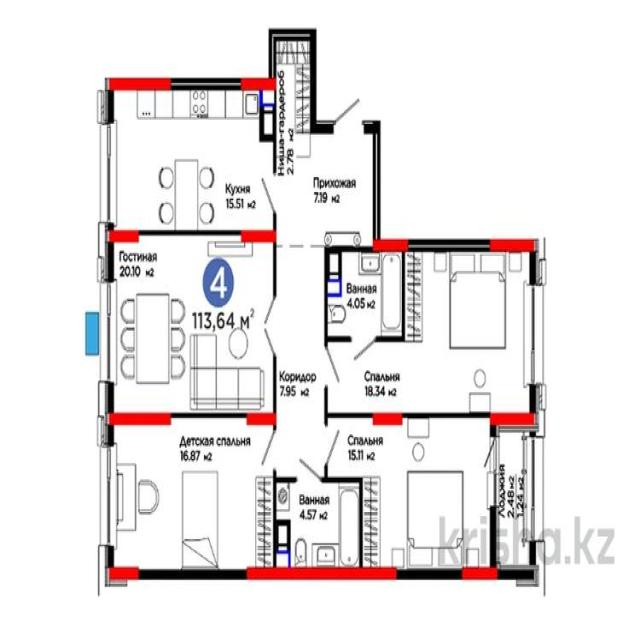balcony: (494, 413, 536, 573)
bathroom: (273, 478, 364, 576), (327, 253, 405, 343)
hallway: (276, 127, 378, 249)
kitchen: (111, 82, 275, 238)
living_room: (106, 237, 274, 420), (106, 418, 275, 572), (407, 253, 538, 421), (367, 412, 495, 576)
